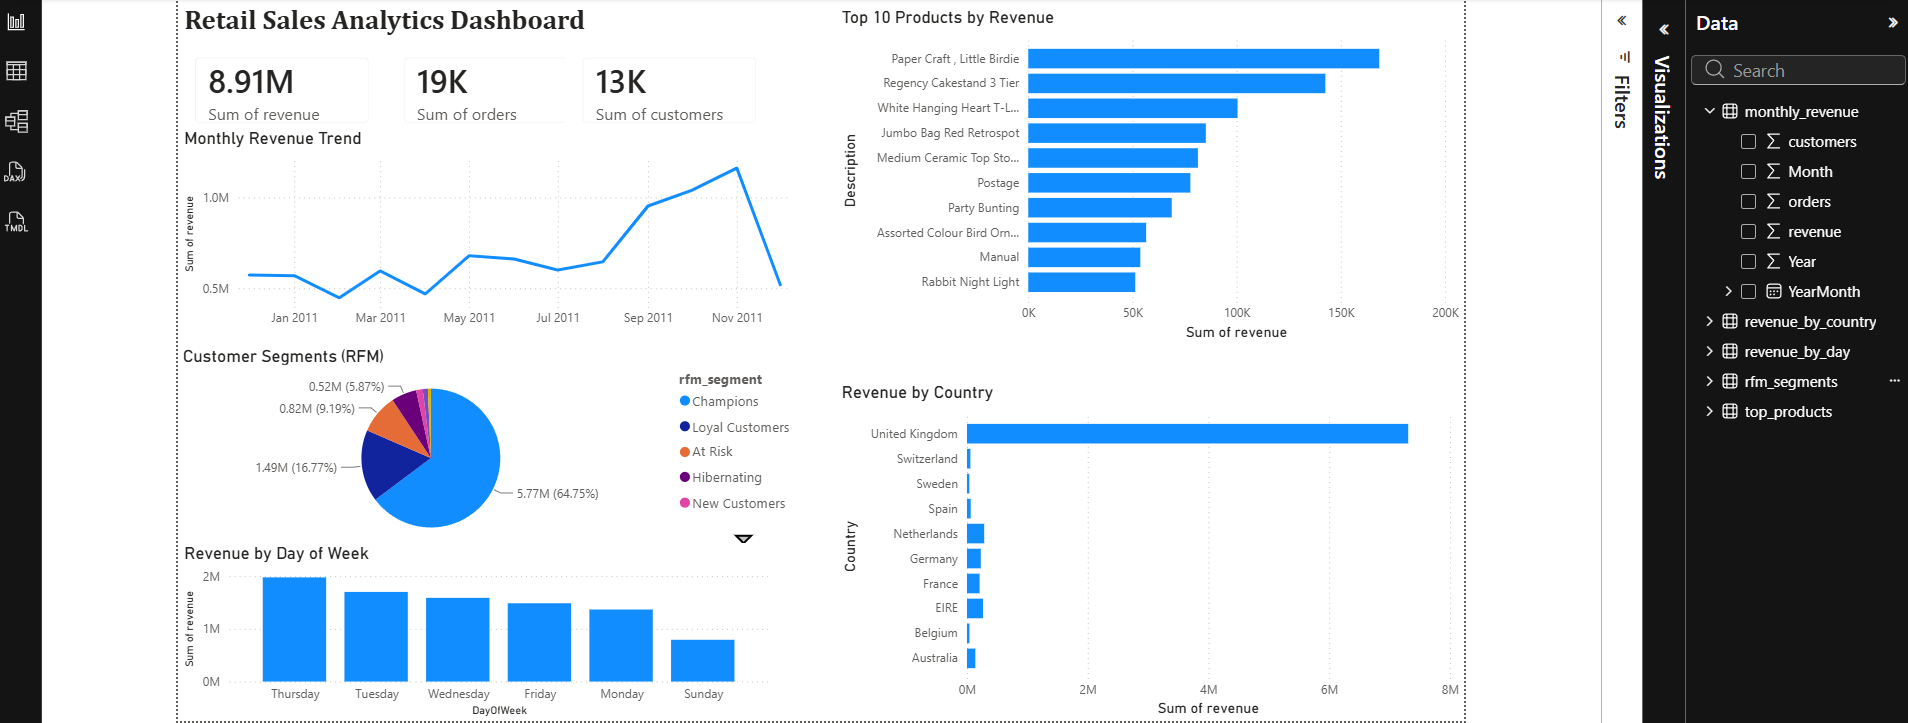

The page's visual inventory and layout, read from the dashboard file:
{"tool":"powerbi","page":{"name":"Page 1","canvas":[1280,720],"ordinal":0},"visuals":[{"type":"cardVisual","fields":{"Data":["Sum(monthly_revenue.revenue)"]},"box":[0,42.3,207.7,99.5],"z":0},{"type":"cardVisual","fields":{"Data":["Sum(monthly_revenue.orders)"]},"box":[207.7,42.3,211.5,99.5],"z":1000},{"type":"cardVisual","fields":{"Data":["Sum(monthly_revenue.customers)"]},"box":[385.6,42.3,207.7,99.5],"z":2000},{"type":"lineChart","title":"Monthly Revenue Trend","fields":{"Category":["monthly_revenue.YearMonth.Variation.Date Hierarchy.Year","monthly_revenue.YearMonth.Variation.Date Hierarchy.Quarter","monthly_revenue.YearMonth.Variation.Date Hierarchy.Month","monthly_revenue.YearMonth.Variation.Date Hierarchy.Day"],"Y":["Sum(monthly_revenue.revenue)"]},"box":[1.2,129.4,629.4,207.7],"z":3000},{"type":"clusteredBarChart","title":"Top 10 Products by Revenue","fields":{"Category":["top_products.Description"],"Y":["Sum(top_products.revenue)"]},"box":[655.6,8.7,624.5,337.1],"z":4000},{"type":"pieChart","title":"Customer Segments (RFM)","fields":{"Category":["rfm_segments.rfm_segment"],"Y":["Sum(rfm_segments.monetary)"]},"box":[0,345.8,630.7,205.3],"z":5000},{"type":"clusteredBarChart","title":"Revenue by Country","fields":{"Y":["Sum(revenue_by_country.revenue)"],"Category":["revenue_by_country.Country"]},"box":[655.6,381.9,624.5,338.4],"z":6000},{"type":"clusteredColumnChart","title":"Revenue by Day of Week","fields":{"Category":["revenue_by_day.DayOfWeek"],"Y":["Sum(revenue_by_day.revenue)"]},"box":[1.2,542.4,592.1,177.9],"z":7000},{"type":"textbox","box":[1.2,0,441.6,53.5],"z":8000}]}

Visuals, with their boxes on the page's 1280x720 design canvas (x1, y1, x2, y2). These are canvas units, not pixel positions in the 1908x723 screenshot, which may show the page scaled, cropped or inside an application window:
cardVisual - Sum(monthly_revenue.revenue): {"left": 0, "top": 42, "right": 208, "bottom": 142}
cardVisual - Sum(monthly_revenue.orders): {"left": 208, "top": 42, "right": 419, "bottom": 142}
cardVisual - Sum(monthly_revenue.customers): {"left": 386, "top": 42, "right": 593, "bottom": 142}
"Monthly Revenue Trend" lineChart: {"left": 1, "top": 129, "right": 631, "bottom": 337}
"Top 10 Products by Revenue" clusteredBarChart: {"left": 656, "top": 9, "right": 1280, "bottom": 346}
"Customer Segments (RFM)" pieChart: {"left": 0, "top": 346, "right": 631, "bottom": 551}
"Revenue by Country" clusteredBarChart: {"left": 656, "top": 382, "right": 1280, "bottom": 720}
"Revenue by Day of Week" clusteredColumnChart: {"left": 1, "top": 542, "right": 593, "bottom": 720}
textbox: {"left": 1, "top": 0, "right": 443, "bottom": 54}
